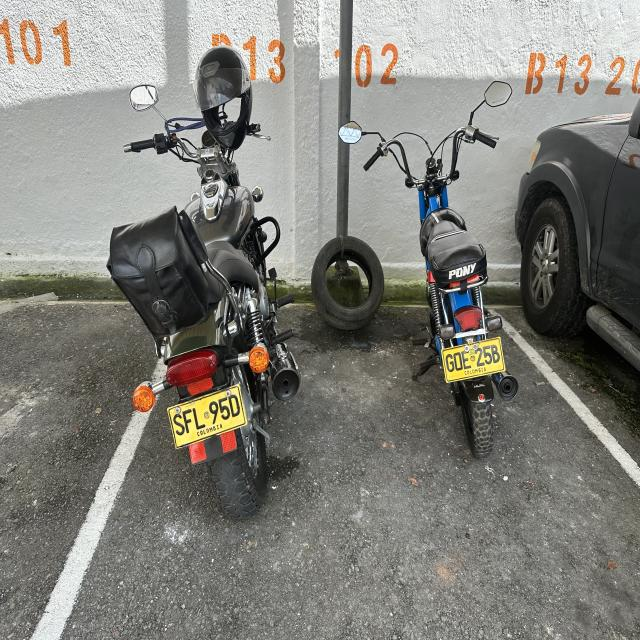number plate: (167, 384, 247, 448), (441, 337, 505, 382)
